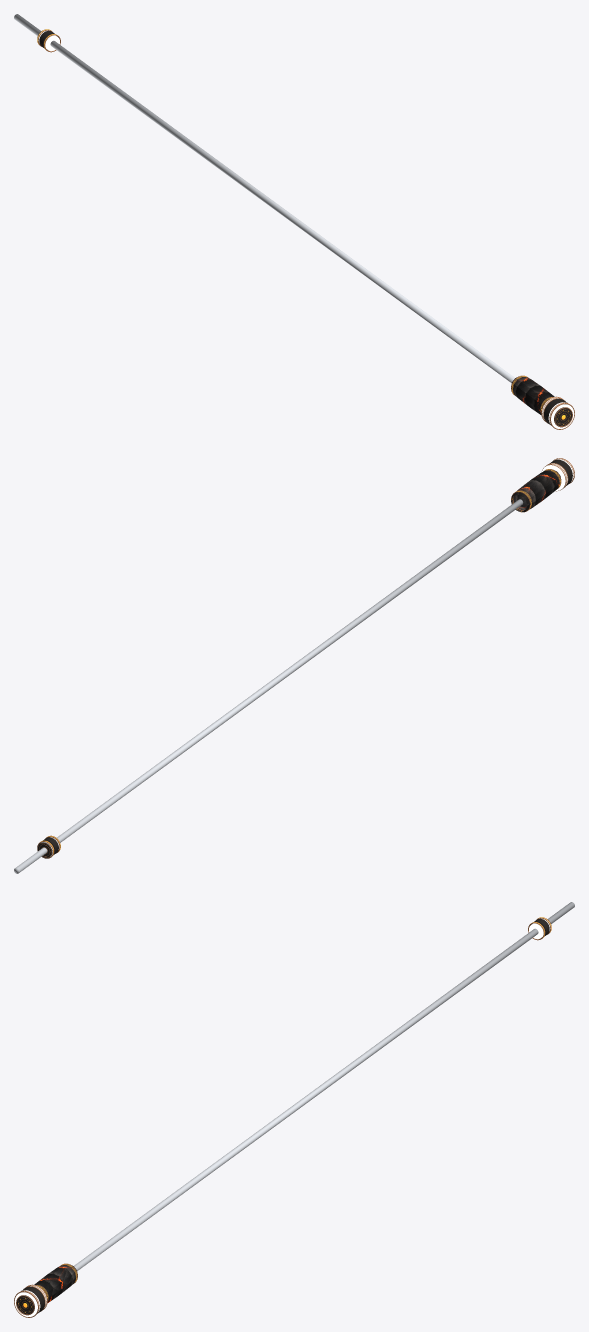
The model's file is fuzeball_rod_2man.glb.
3 renders of one model, top to bottom at view 1: azimuth 30°, elevation 25°; view 2: azimuth 150°, elevation 25°; view 3: azimuth 330°, elevation 25°, orthographic.
Visible parts, largest first — view 1: rod2_bar.002, rod2_handle_solar; view 2: rod2_bar.002, rod2_handle_solar; view 3: rod2_bar.002, rod2_handle_solar.
Boxes of the visible parts, x1,y1,x2,y2 form: rod2_bar.002: (14,14,514,382); rod2_handle_solar: (511,376,554,414); rod2_bar.002: (14,499,523,873); rod2_handle_solar: (511,470,561,511); rod2_bar.002: (74,902,574,1270); rod2_handle_solar: (34,1264,77,1302).
Size of the model in its own units: 3.49 by 3.49 by 133.
Materials: 6 (1 with a texture image).
